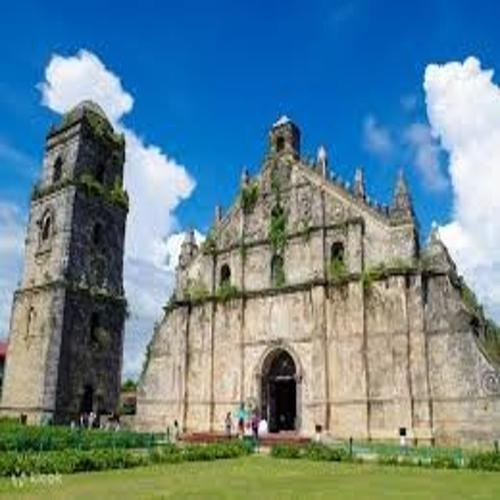Paoay Church: (4, 88, 496, 444)
